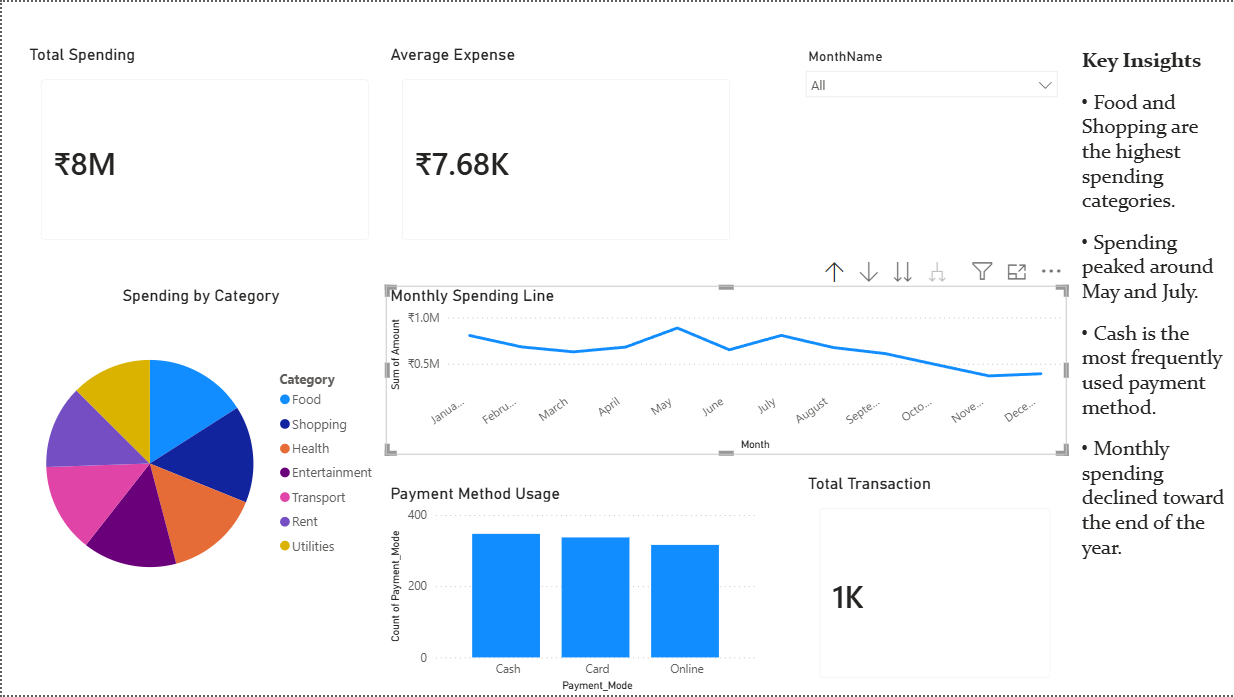

Layout of this report page (visuals, bound fields, positions):
{"tool":"powerbi","page":{"name":"Page 1","canvas":[1280,720],"ordinal":0},"visuals":[{"type":"cardVisual","title":"Total Spending","fields":{"Data":["Sum(personal_expense_dataset.Amount)"]},"box":[23.3,43.9,376,220.9],"z":0},{"type":"cardVisual","title":"Average Expense","fields":{"Data":["Avg(personal_expense_dataset.Amount)"]},"box":[399.3,43.9,376,220.9],"z":1000},{"type":"pieChart","title":"Spending by Category","fields":{"Category":["personal_expense_dataset.Category"],"Y":["Sum(personal_expense_dataset.Amount)"]},"box":[14,294.5,385,350.6],"z":2000},{"type":"lineChart","title":"Monthly Spending Line","fields":{"Category":["personal_expense_dataset.Date.Variation.Date Hierarchy.Year","personal_expense_dataset.Date.Variation.Date Hierarchy.Quarter","personal_expense_dataset.Date.Variation.Date Hierarchy.Month","personal_expense_dataset.Date.Variation.Date Hierarchy.Day"],"Y":["Sum(personal_expense_dataset.Amount)"]},"box":[399,294.5,707.5,175.9],"z":3000},{"type":"columnChart","title":"Payment Method Usage","fields":{"Category":["personal_expense_dataset.Payment_Mode"],"Y":["CountNonNull(personal_expense_dataset.Payment_Mode)"]},"box":[399.3,499.5,392.5,220.9],"z":4000},{"type":"cardVisual","title":"Total Transaction","fields":{"Data":["CountNonNull(personal_expense_dataset.Amount)"]},"box":[832.4,489.5,274.1,230.7],"z":4001},{"type":"slicer","fields":{"Values":["personal_expense_dataset.MonthName"]},"box":[824.8,43.3,281.7,221.8],"z":4002},{"type":"textbox","box":[1116.7,43.3,163.2,657.8],"z":4003}]}

Visuals, with their boxes in screenshot pixels (x1, y1, x2, y2), scaled from the page's 1280x720 canvas onto the 1234x697 screenshot:
"Total Spending" cardVisual: [22,42,385,256]
"Average Expense" cardVisual: [385,42,747,256]
"Spending by Category" pieChart: [13,285,385,624]
"Monthly Spending Line" lineChart: [385,285,1067,455]
"Payment Method Usage" columnChart: [385,484,763,696]
"Total Transaction" cardVisual: [802,474,1067,696]
slicer - personal_expense_dataset.MonthName: [795,42,1067,257]
textbox: [1077,42,1233,679]
